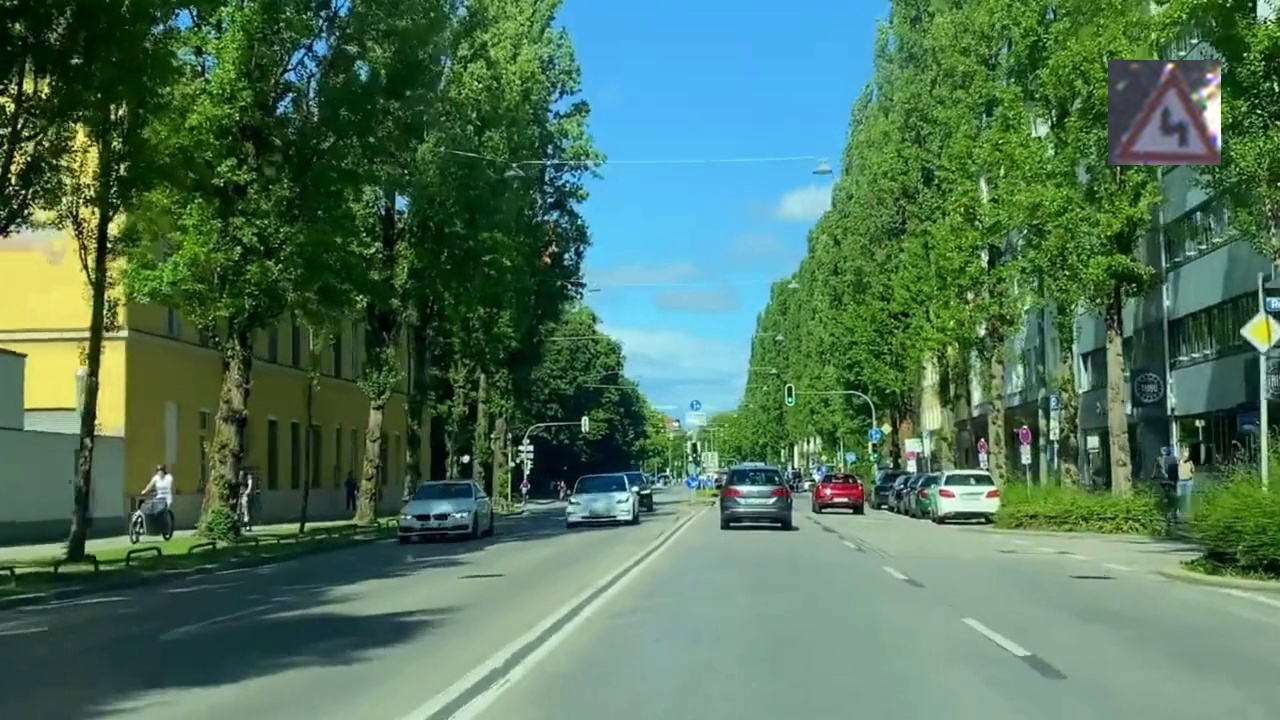Double curve: (1108, 60, 1221, 165)
